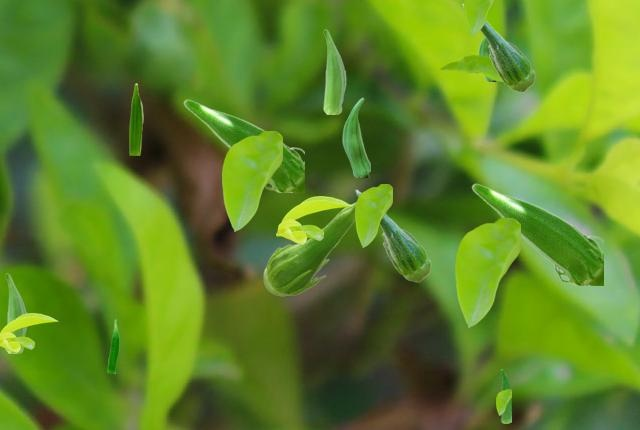okra: (471, 183, 602, 284), (183, 99, 303, 191), (263, 202, 355, 295), (355, 189, 430, 281), (462, 3, 534, 91), (342, 97, 369, 176), (323, 29, 345, 113), (5, 273, 26, 352), (129, 83, 142, 154), (478, 27, 493, 80), (107, 319, 118, 372), (501, 369, 510, 422)
